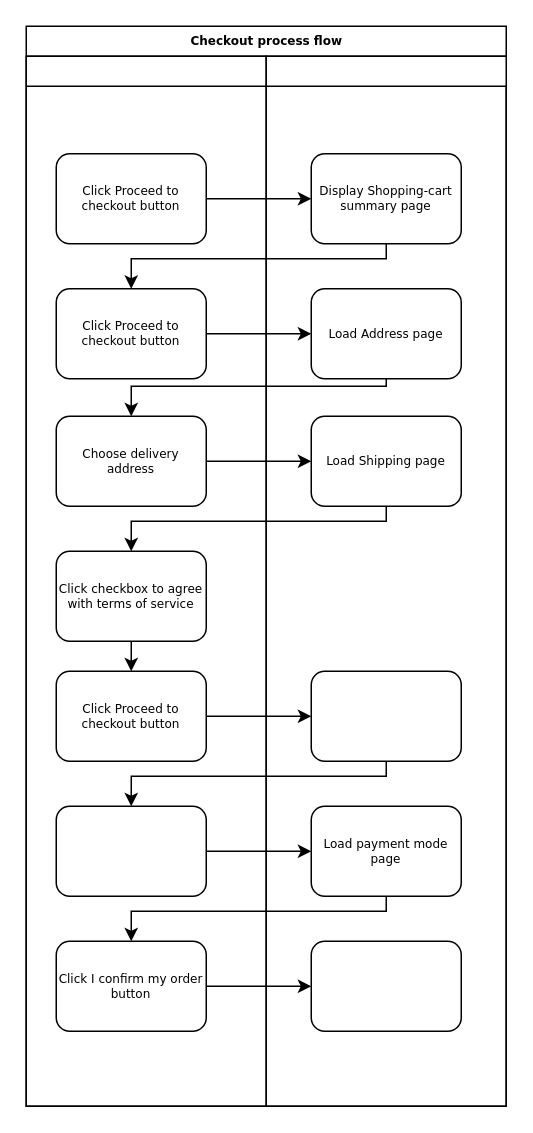
Image size: 533x1133. Some labels were removed from this diagram. Each missing label, with the box of its shape:
Display order confirmation page: (310, 940, 461, 1031)
Load Payment page: (310, 670, 461, 761)
Select payment type: (55, 805, 206, 896)
System: (265, 55, 506, 1106)
User: (25, 55, 266, 1106)
